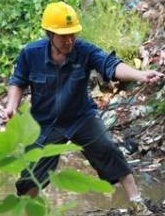hard-hat: (40, 0, 81, 34)
